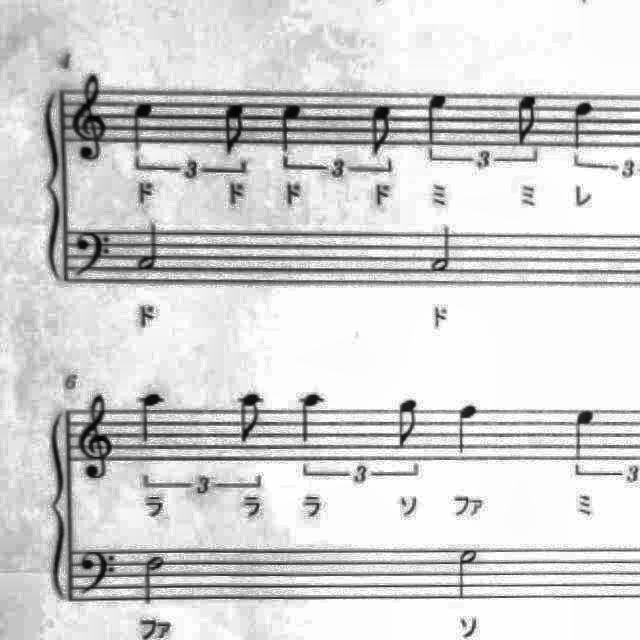Bass-clef: (68, 227, 116, 286), (74, 546, 120, 602)
Eighth-note: (231, 386, 271, 452), (217, 98, 256, 162), (364, 100, 401, 162), (389, 393, 427, 453), (510, 88, 546, 150)
Half-note: (130, 218, 168, 278), (136, 548, 172, 608), (454, 543, 488, 605), (424, 219, 460, 277)
Quarter-note: (292, 384, 334, 450), (568, 402, 604, 472), (448, 396, 486, 462), (415, 86, 453, 150), (125, 94, 161, 160), (134, 385, 170, 451), (272, 96, 308, 160), (566, 96, 600, 156)
Treble-clef: (72, 386, 118, 484), (67, 69, 113, 167)
